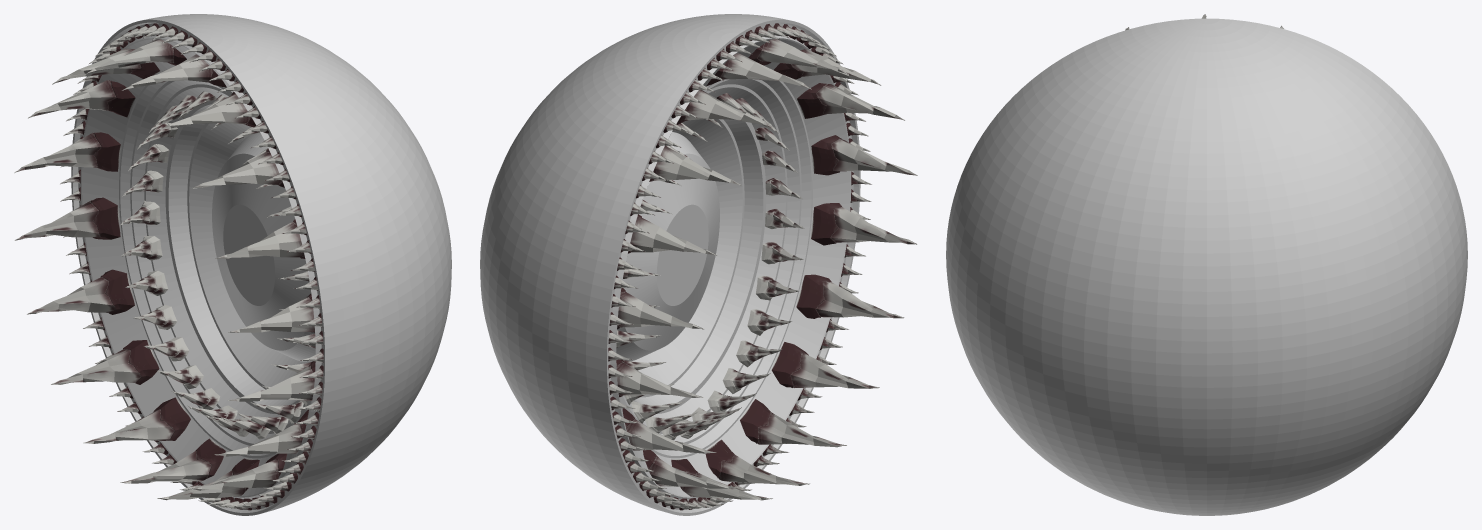
File: SphereBoss.fbx
The picture shows the model from 3 angles, left to right: view 1: azimuth 30°, elevation 25°; view 2: azimuth 150°, elevation 25°; view 3: azimuth 270°, elevation 25°; orthographic projection. The views are drawn at different scales.
Visible parts, largest first — view 1: Body, Thooth.005, Thooth.004, Thooth.006; view 2: Body, Thooth.005, Thooth.006, Thooth.004; view 3: Body.
Boxes of the visible parts, x1=… form: Body: x1=71, y1=14, x2=451, y2=515; Thooth.005: x1=14, y1=39, x2=315, y2=500; Thooth.004: x1=120, y1=91, x2=315, y2=439; Thooth.006: x1=60, y1=23, x2=323, y2=510; Body: x1=480, y1=14, x2=860, y2=515; Thooth.005: x1=616, y1=39, x2=917, y2=500; Thooth.006: x1=608, y1=23, x2=871, y2=510; Thooth.004: x1=616, y1=93, x2=804, y2=439; Body: x1=946, y1=18, x2=1467, y2=515.
Bounding box in the file's own units: 13.51 × 20 × 20.
